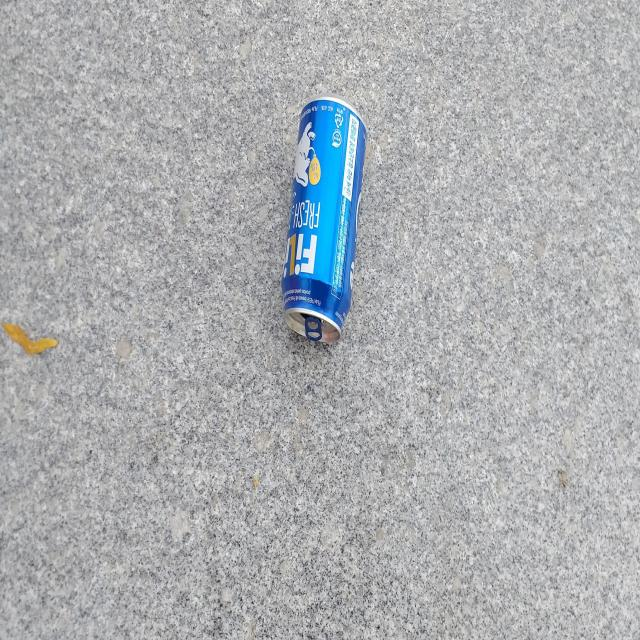can: (282, 95, 367, 342)
